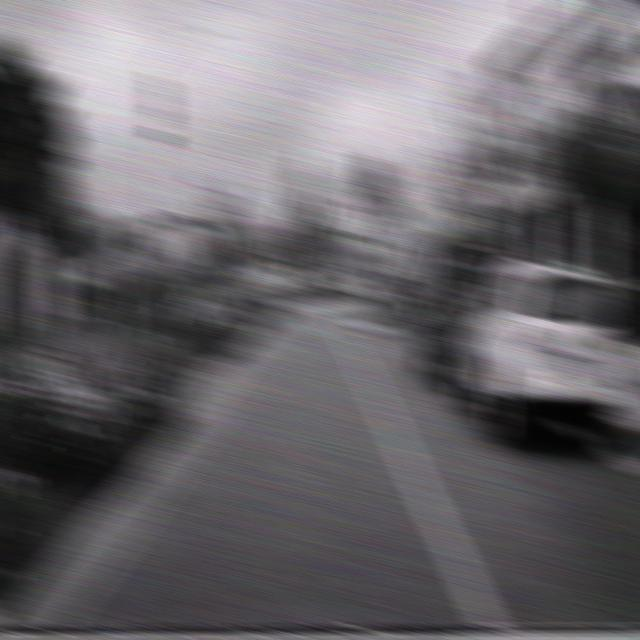pedestrianCrossing: (372, 227, 406, 270)
